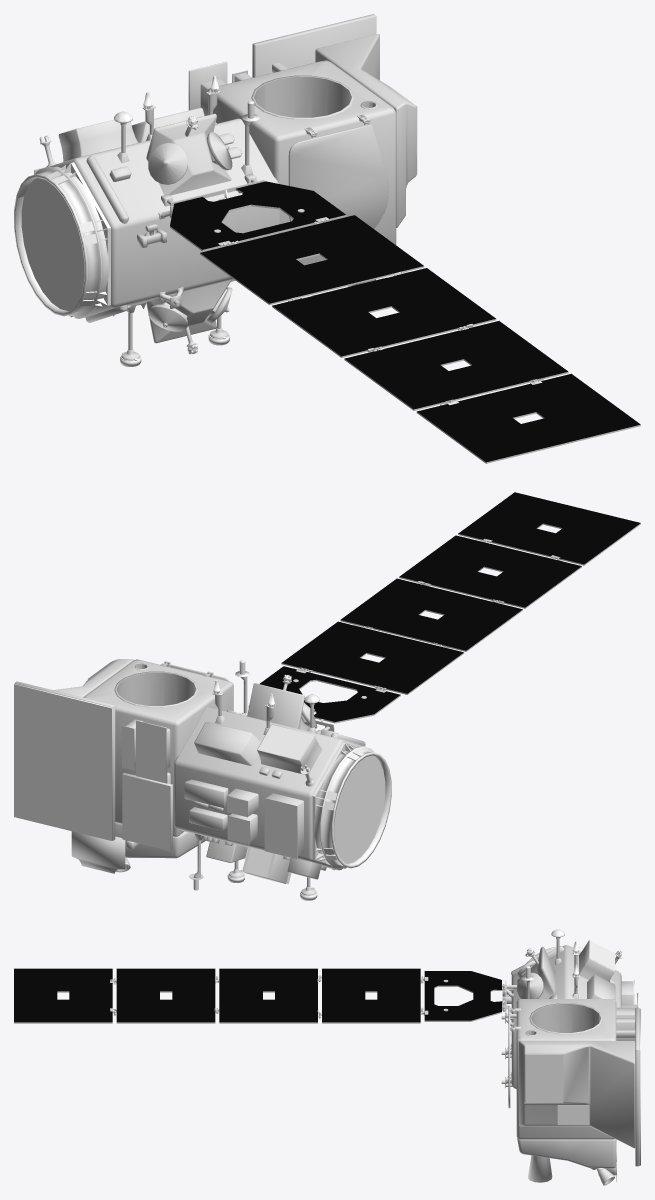
File: ICESat2-label-body.fbx
3 views of the same model, one above another, from view 1: azimuth 30°, elevation 25°; view 2: azimuth 150°, elevation 25°; view 3: azimuth 270°, elevation 25° (orthographic). The views are drawn at different scales.
Parts seen in each view (by area): view 1: ICESat2-label-body; view 2: ICESat2-label-body; view 3: ICESat2-label-body.
Part boxes in pixels (x1,y1,x2,y2): ICESat2-label-body: (14,14,640,463); ICESat2-label-body: (14,492,640,900); ICESat2-label-body: (14,929,640,1185).
Bounding box in the file's own units: 51.9 × 33.07 × 105.
8 materials, 1 textured.
